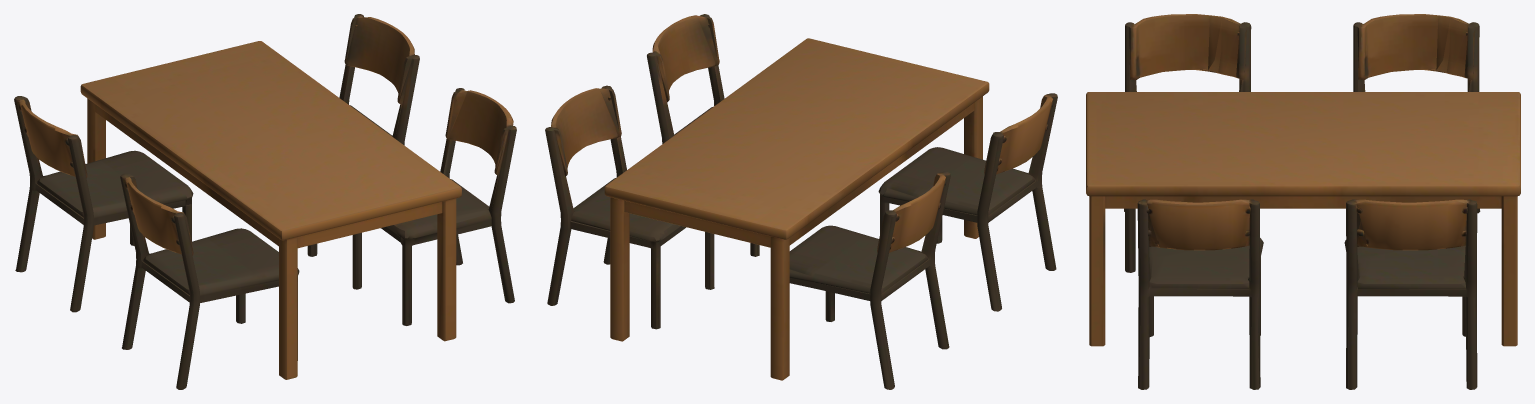
The model's file is BreakRoomTable2.glb.
The picture shows the model from 3 angles, left to right: view 1: azimuth 30°, elevation 25°; view 2: azimuth 150°, elevation 25°; view 3: azimuth 270°, elevation 25°; orthographic projection. The views are drawn at different scales.
Visible parts, largest first — view 1: BreakRoomTable2; view 2: BreakRoomTable2; view 3: BreakRoomTable2.
Part boxes in pixels (x1,y1,x2,y2): BreakRoomTable2: [14, 14, 516, 389]; BreakRoomTable2: [545, 14, 1057, 389]; BreakRoomTable2: [1086, 14, 1520, 389].
Size of the model in its own units: 1.88 by 0.8807 by 1.81.
1 material, 1 textured.
